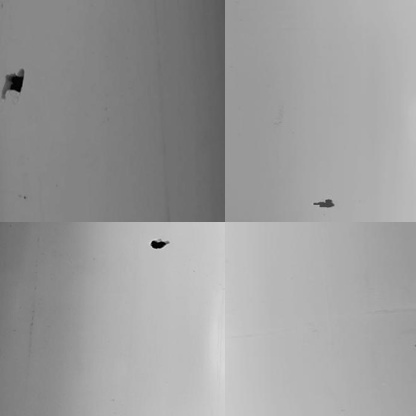kongdong: (3, 67, 29, 103), (313, 194, 336, 210), (146, 235, 168, 249)
